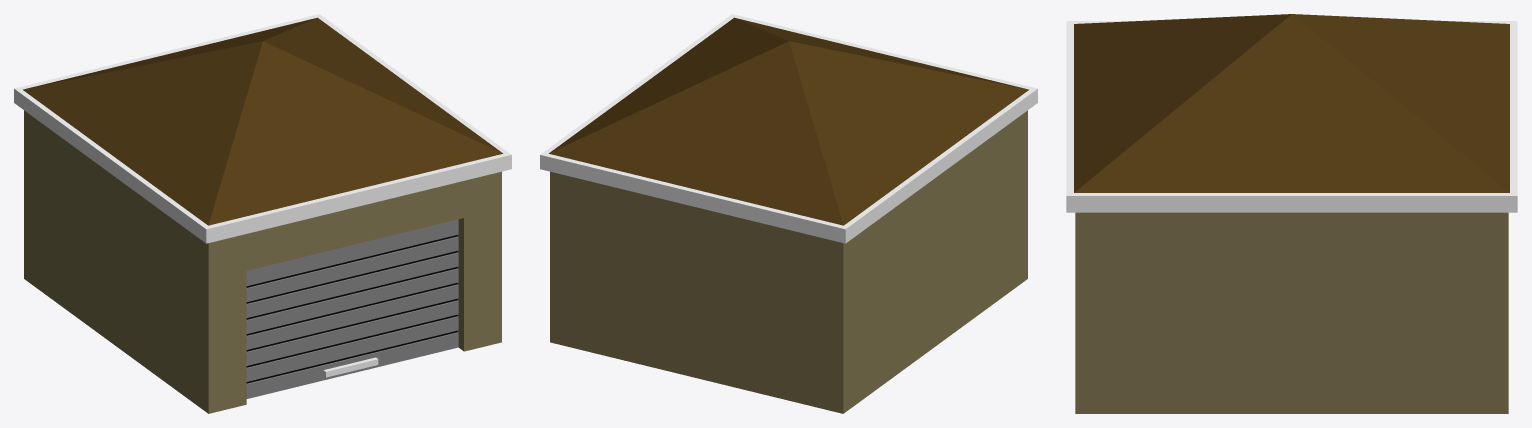
Rendered from Garage-02c.fbx.
3 renders of one model, left to right at view 1: azimuth 30°, elevation 25°; view 2: azimuth 150°, elevation 25°; view 3: azimuth 270°, elevation 25°, orthographic. The views are drawn at different scales.
Parts seen in each view (by area): view 1: Garage-02; view 2: Garage-02; view 3: Garage-02.
Boxes of the visible parts, bbox=[...] form: Garage-02: bbox=[14, 14, 511, 413]; Garage-02: bbox=[540, 14, 1037, 413]; Garage-02: bbox=[1066, 14, 1517, 413].
Size of what is drawn, in the model's own units: 5.26 by 4.43 by 5.73.
